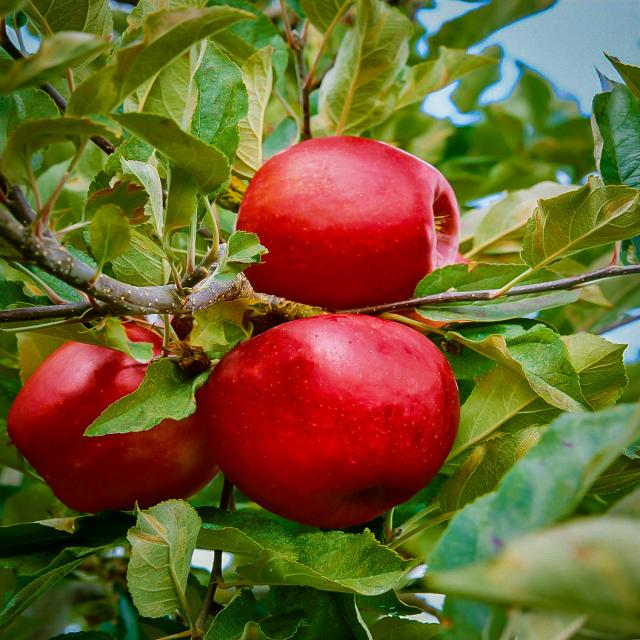Apple: (204, 320, 469, 528), (1, 308, 224, 512), (225, 127, 472, 301)
